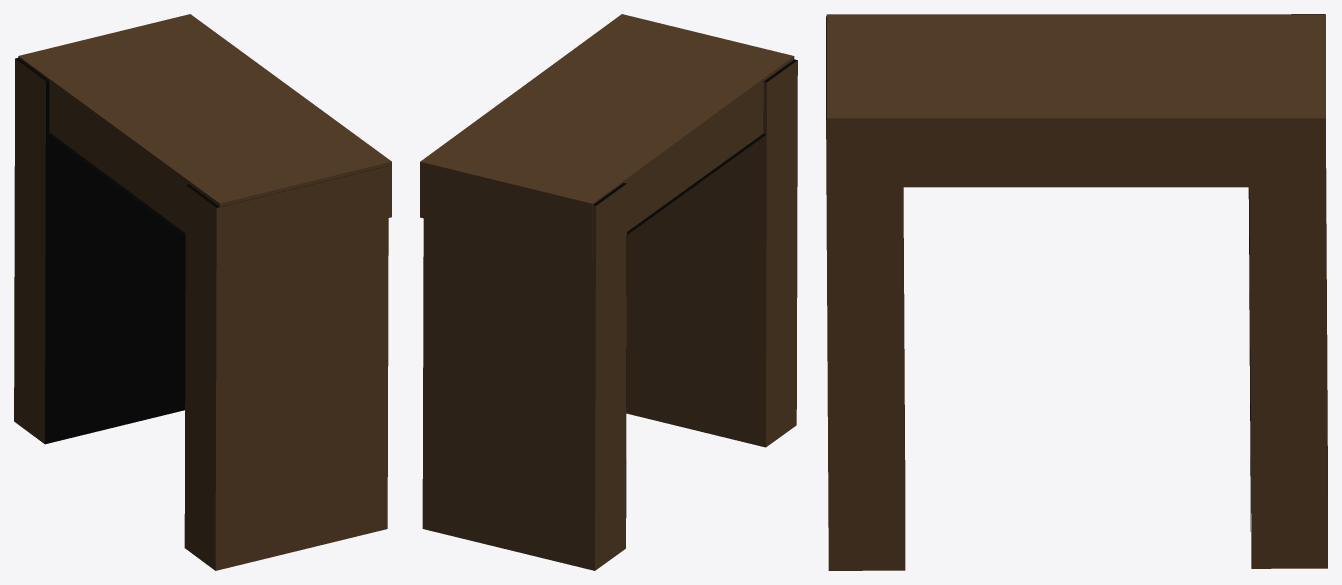
The model's file is PorteOuverte.fbx.
The picture shows the model from 3 angles, left to right: view 1: azimuth 30°, elevation 25°; view 2: azimuth 150°, elevation 25°; view 3: azimuth 270°, elevation 25°; orthographic projection. The views are drawn at different scales.
Parts seen in each view (by area): view 1: Cube.001; view 2: Cube.001; view 3: Cube.001.
Boxes of the visible parts, x1,y1,x2,y2 form: Cube.001: (14, 14, 391, 570); Cube.001: (420, 14, 797, 570); Cube.001: (826, 14, 1327, 570).
Bounding box in the file's own units: 100 × 200 × 200.
